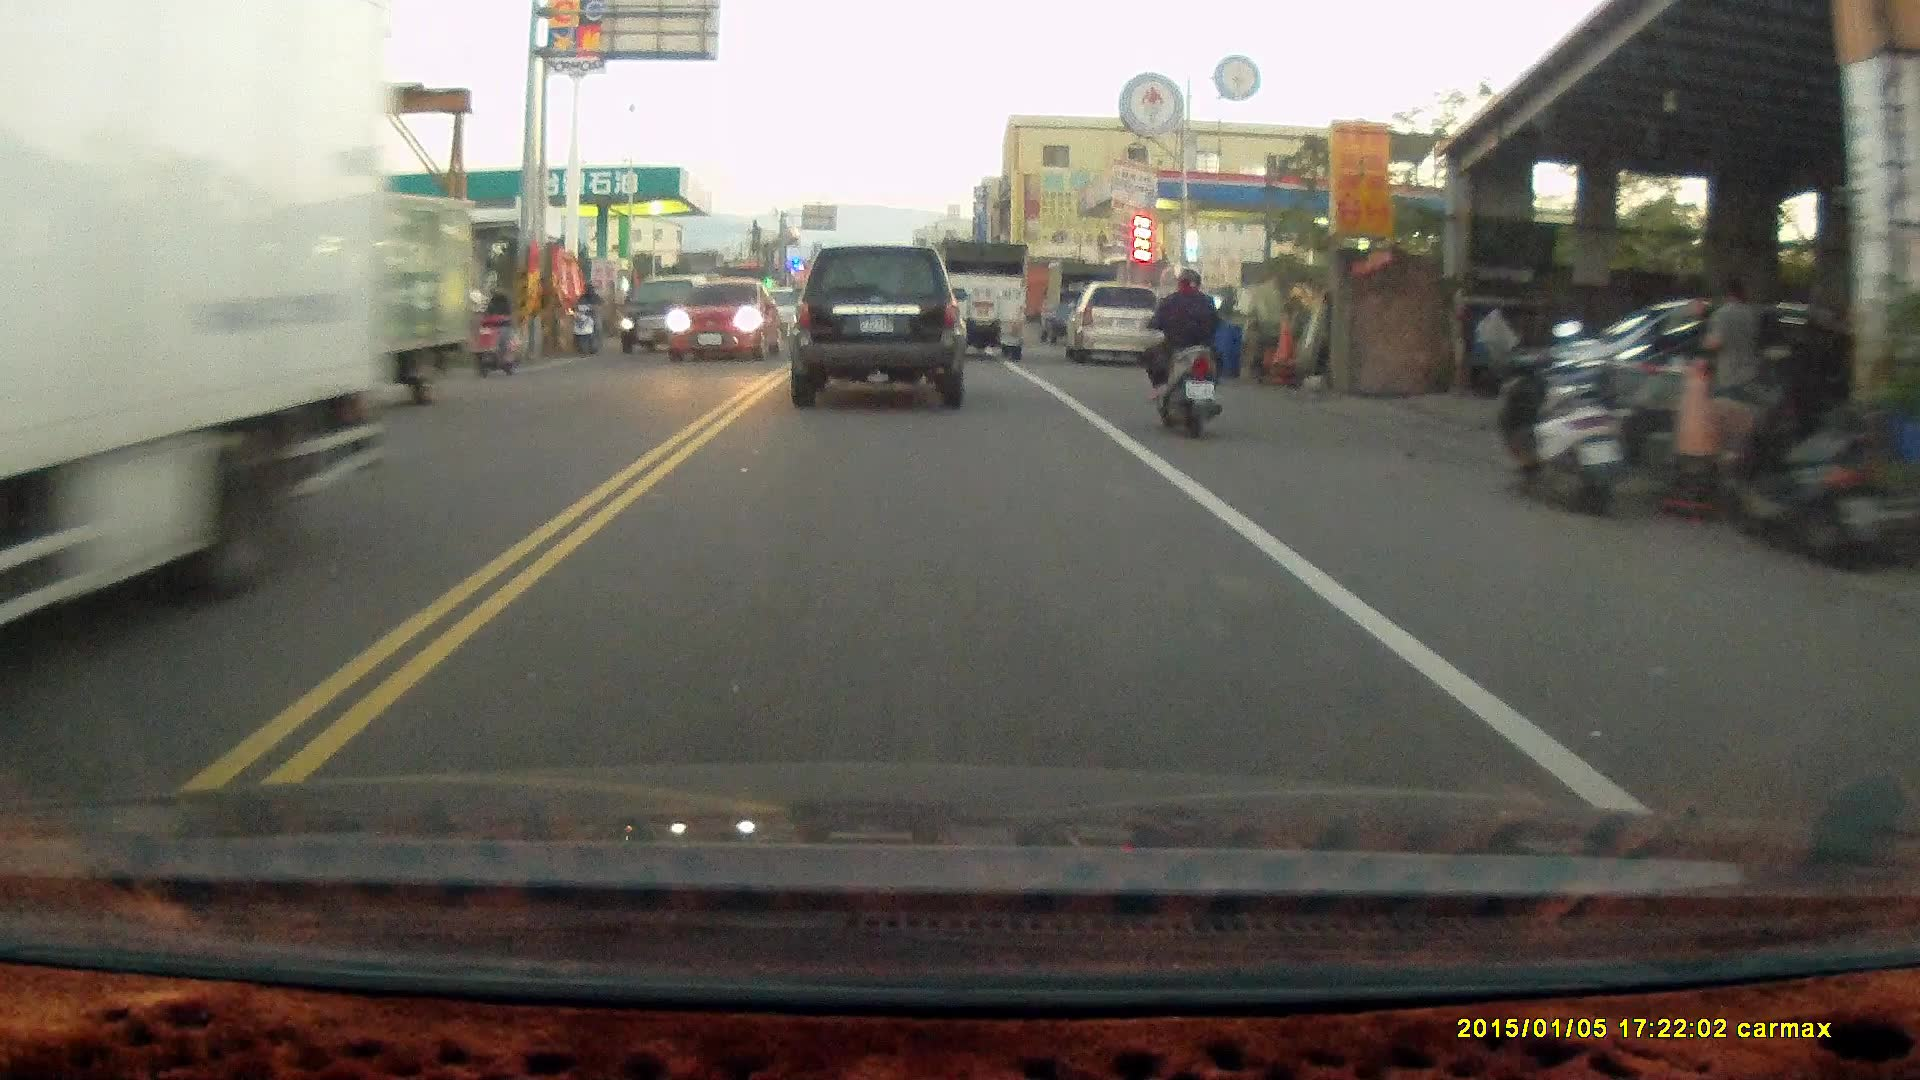pedestrian: (1703, 280, 1762, 435)
rider: (1142, 268, 1234, 445), (462, 279, 531, 374), (571, 280, 606, 355)
vehicle: (1, 20, 386, 665), (785, 243, 968, 412), (937, 238, 1030, 361), (667, 284, 788, 363), (1069, 284, 1166, 370), (620, 276, 714, 355)
